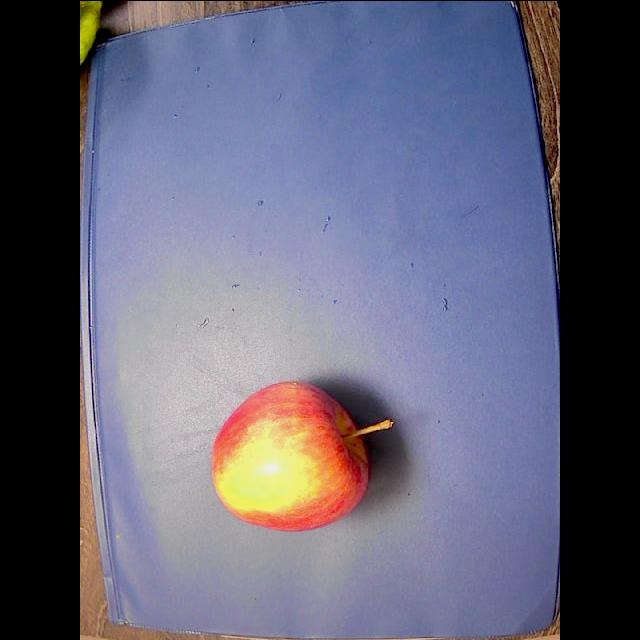manzana: (211, 381, 392, 530)
